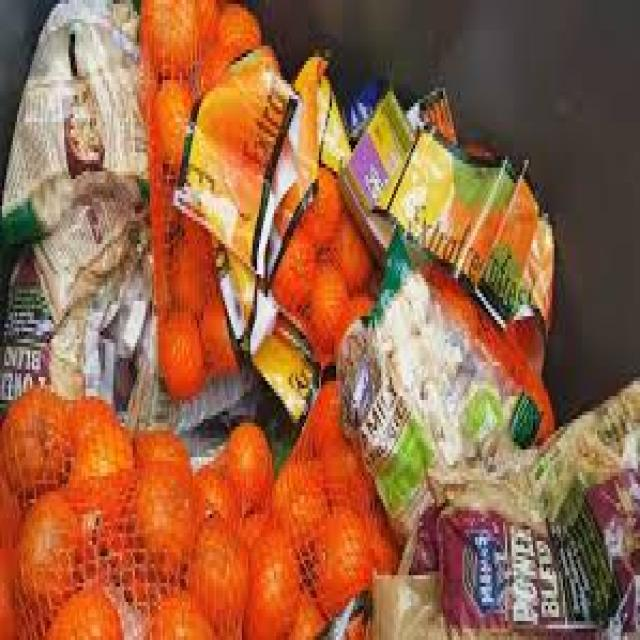Wet: (8, 398, 350, 625), (149, 3, 207, 383), (278, 173, 358, 342)
